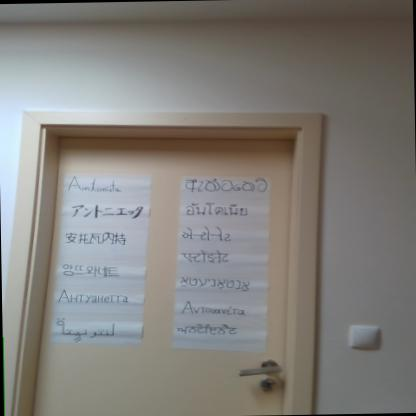closed: (0, 83, 328, 415)
